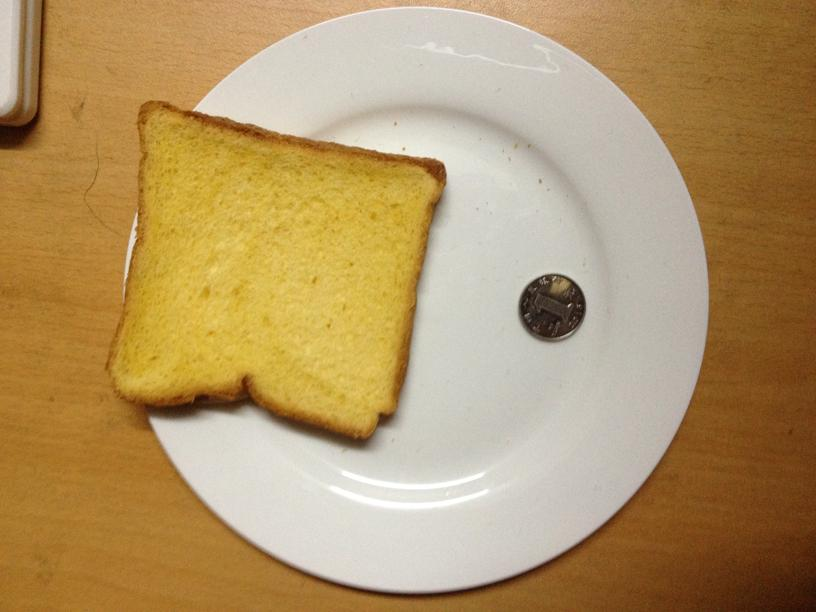bread: (109, 100, 445, 441)
coin: (517, 271, 584, 340)
